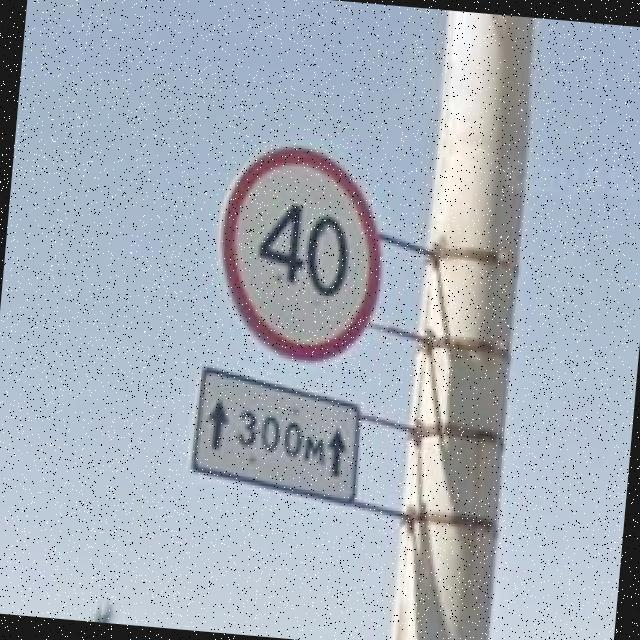Ograniczenie predkosci do 40: (210, 136, 394, 368)
